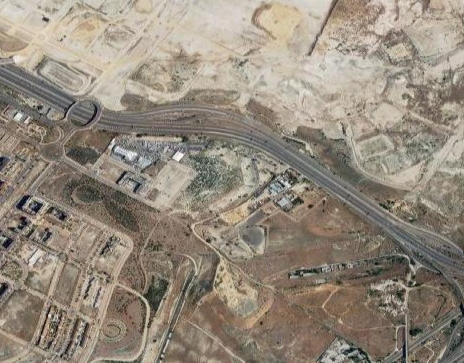bridge: (399, 337, 416, 359)
motorway: (182, 95, 338, 213), (308, 175, 464, 293), (1, 59, 197, 142)
